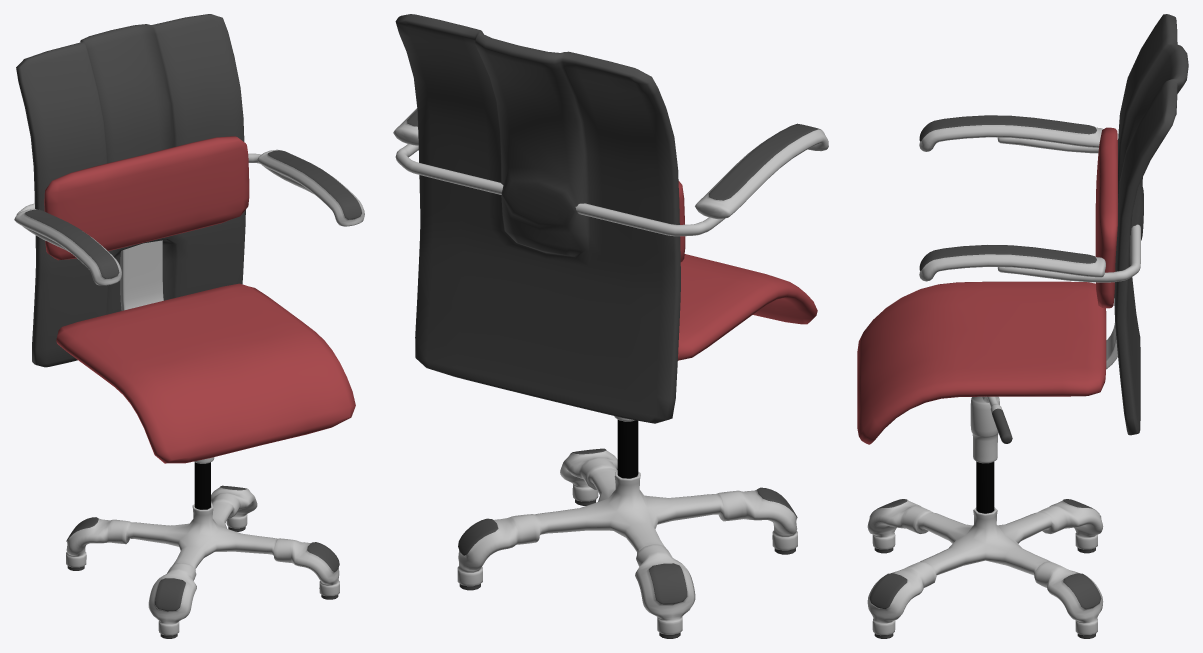
Rendered from Office_chair_2.fbx.
The picture shows the model from 3 angles, left to right: view 1: azimuth 30°, elevation 25°; view 2: azimuth 150°, elevation 25°; view 3: azimuth 270°, elevation 25°; orthographic projection. The views are drawn at different scales.
Visible parts, largest first — view 1: ochair22_Object__0; view 2: ochair22_Object__0; view 3: ochair22_Object__0.
Boxes of the visible parts, x1,y1,x2,y2 form: ochair22_Object__0: (14, 14, 364, 638); ochair22_Object__0: (393, 14, 828, 638); ochair22_Object__0: (857, 14, 1188, 638).
Size of the model in its own units: 38.52 by 65.83 by 37.22.
